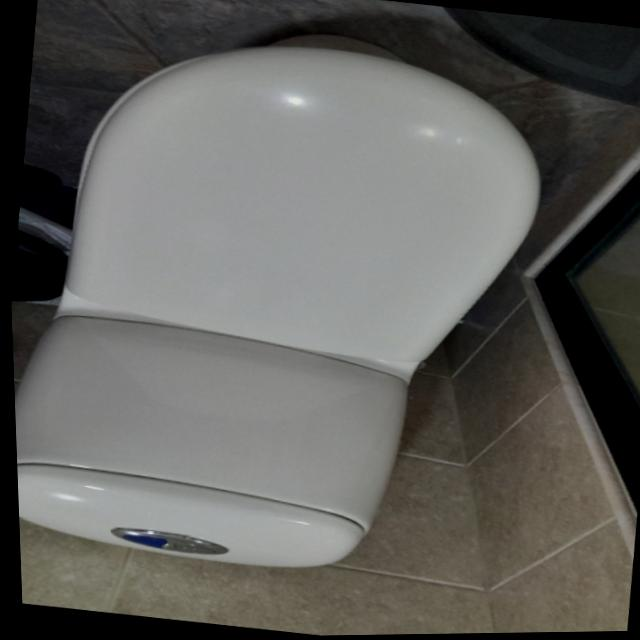toilet: (0, 0, 581, 608)
